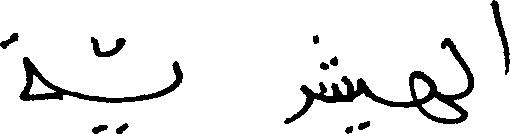X: (92, 32, 181, 133), (408, 33, 459, 128), (0, 28, 61, 105), (315, 30, 350, 133), (285, 31, 313, 128), (491, 0, 509, 79), (352, 73, 370, 133), (461, 52, 471, 126)
